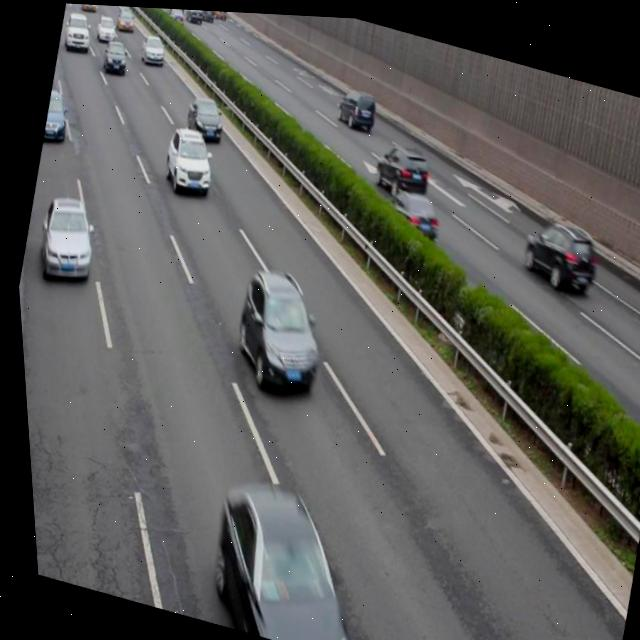car: (187, 467, 378, 640), (218, 257, 332, 398), (511, 205, 600, 294), (26, 189, 102, 289), (155, 121, 218, 199), (364, 132, 433, 201), (373, 178, 442, 243), (179, 88, 228, 143), (329, 79, 378, 132), (38, 86, 73, 147)
